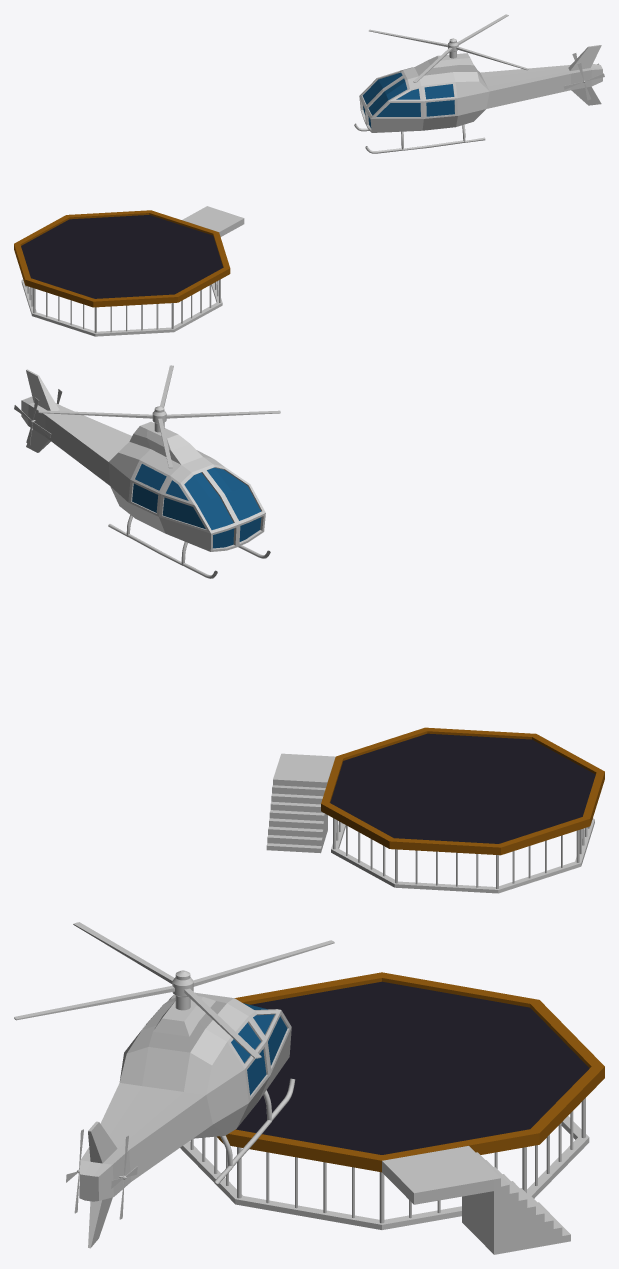
Rendered from copter_000166.obj.
The picture shows the model from 3 angles, top to bottom: view 1: azimuth 30°, elevation 25°; view 2: azimuth 150°, elevation 25°; view 3: azimuth 270°, elevation 25°; orthographic projection. The views are drawn at different scales.
Visible parts, largest first — view 1: Cylinder.001_Cylinder.012, Helicopter.007_Cylinder.008, Helicopter.001_Cylinder.001, Cylinder.004; view 2: Cylinder.001_Cylinder.012, Helicopter.007_Cylinder.008, Helicopter.001_Cylinder.001; view 3: Cylinder.001_Cylinder.012, Helicopter.007_Cylinder.008, Helicopter.001_Cylinder.001, Cylinder.004, Cylinder.002, Cylinder.003_Cylinder.005.
Boxes of the visible parts, <box> form: Cylinder.001_Cylinder.012: <box>14,206,244,336</box>; Helicopter.007_Cylinder.008: <box>354,45,602,153</box>; Helicopter.001_Cylinder.001: <box>368,14,528,82</box>; Cylinder.004: <box>110,285,211,332</box>; Cylinder.001_Cylinder.012: <box>266,727,604,893</box>; Helicopter.007_Cylinder.008: <box>21,369,270,578</box>; Helicopter.001_Cylinder.001: <box>38,365,280,468</box>; Cylinder.001_Cylinder.012: <box>180,972,604,1254</box>; Helicopter.007_Cylinder.008: <box>79,992,295,1248</box>; Helicopter.001_Cylinder.001: <box>14,922,334,1058</box>; Cylinder.004: <box>190,1111,573,1185</box>; Cylinder.002: <box>237,1098,585,1223</box>; Cylinder.003_Cylinder.005: <box>266,1152,497,1218</box>.
Size of the model in its own units: 17.7 by 7.45 by 8.97.
